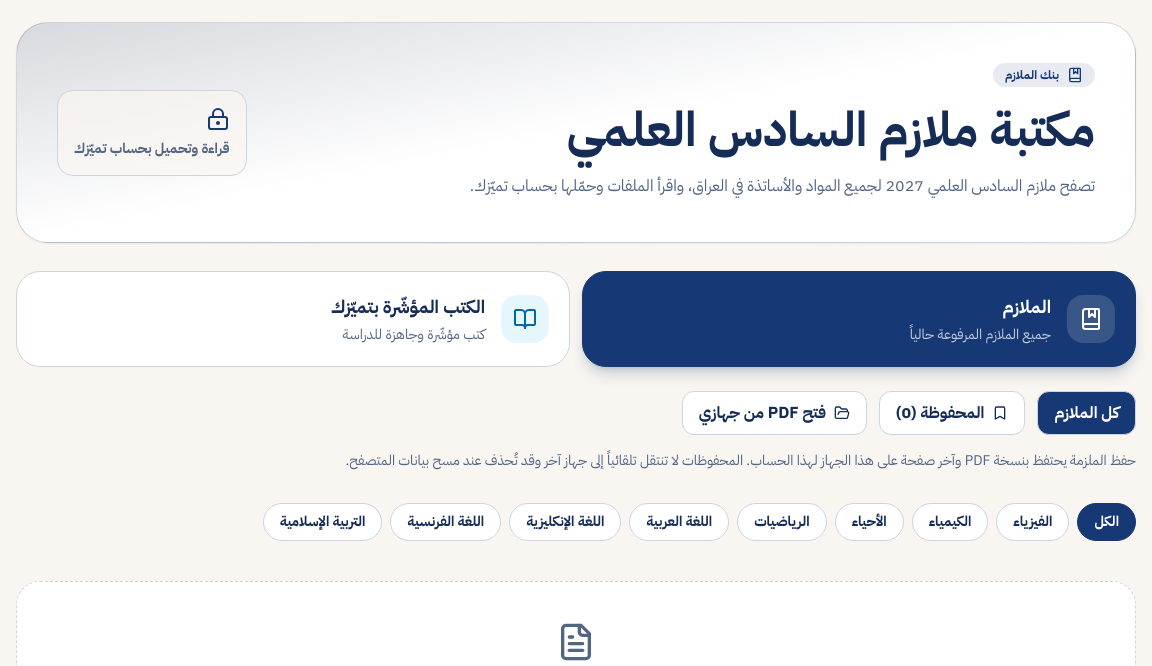
Test: Malazam library loading › shows the marked-books section empty until an admin uploads books
Click the tab "الكتب المؤشّرة بتميّزك كتب مؤشّرة وجاهزة للدراسة": (525, 319) left=16, top=271, right=570, bottom=367
(page scrolled)
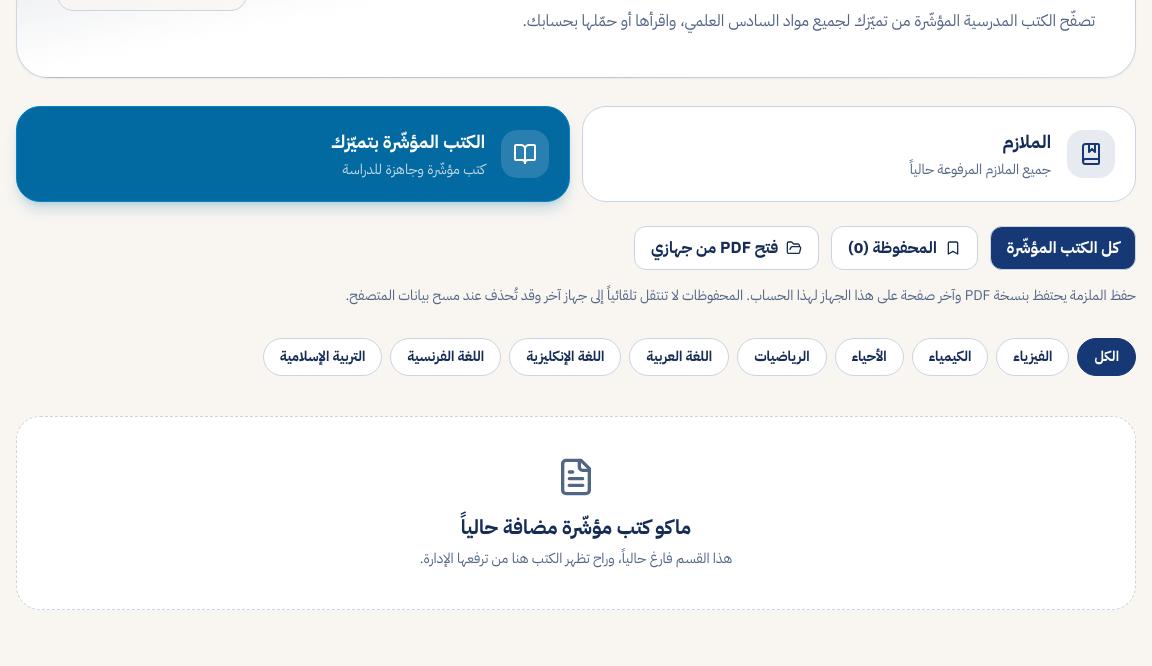
Now the heading "ماكو كتب مؤشّرة مضافة حالياً" is shown, box left=461, top=512, right=691, bottom=542
Now the text "راح تظهر الكتب هنا من ترفعها الإدارة" is shown, box left=420, top=548, right=732, bottom=569
